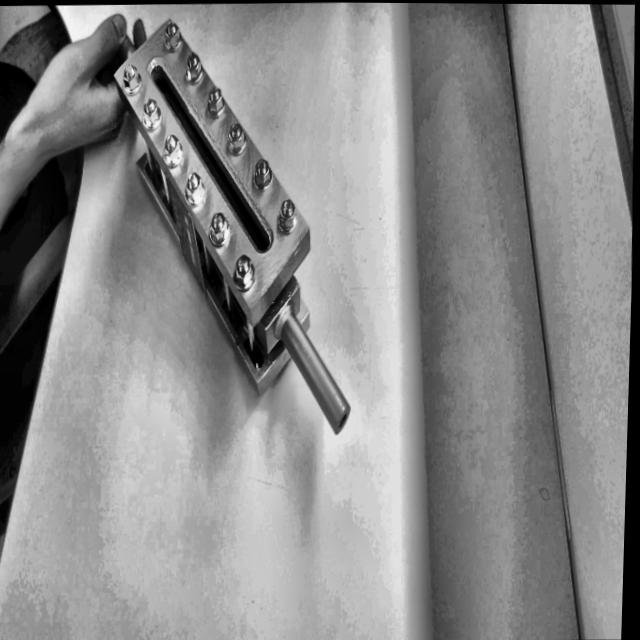ShuiWeiQi_12: (111, 5, 384, 464)
